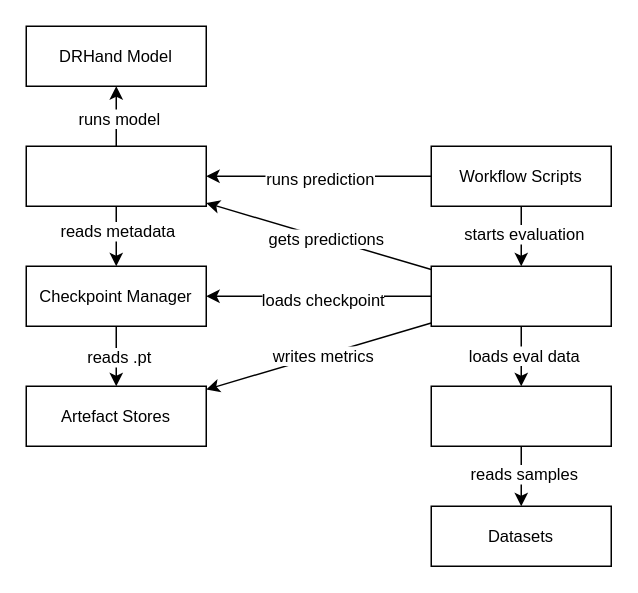
Some shapes in this 638 by 593 pixel diagram are drawn without their labels. The shapes that lost their labels are listed below. From the top down, each one's centre as x and y in pixels, then its label:
At point 115,175: "Inference and Fusion".
At point 520,295: "Evaluation Pipeline".
At point 520,415: "Data Layer".
